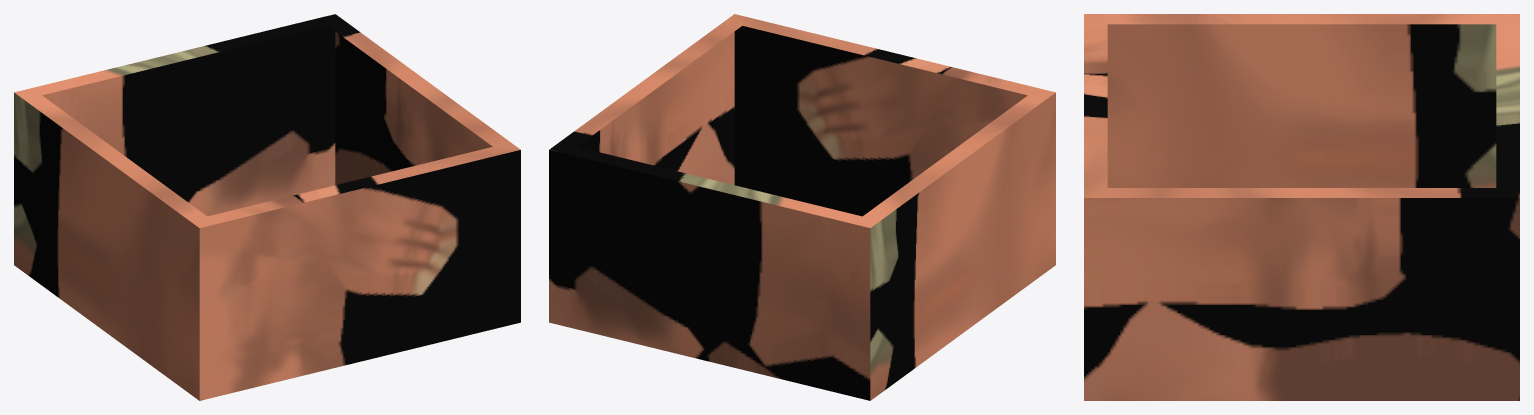
The model's file is Tower_Bottom_01.fbx.
3 renders of one model, left to right at view 1: azimuth 30°, elevation 25°; view 2: azimuth 150°, elevation 25°; view 3: azimuth 270°, elevation 25°, orthographic. The views are drawn at different scales.
Parts seen in each view (by area): view 1: Tower_Bottom_01; view 2: Tower_Bottom_01; view 3: Tower_Bottom_01.
Boxes of the visible parts, box(x1,y1,x2,y2) form: Tower_Bottom_01: box(14, 14, 520, 400); Tower_Bottom_01: box(549, 14, 1055, 400); Tower_Bottom_01: box(1084, 14, 1519, 400).
Bounding box in the file's own units: 2.1 × 1.08 × 2.1.
